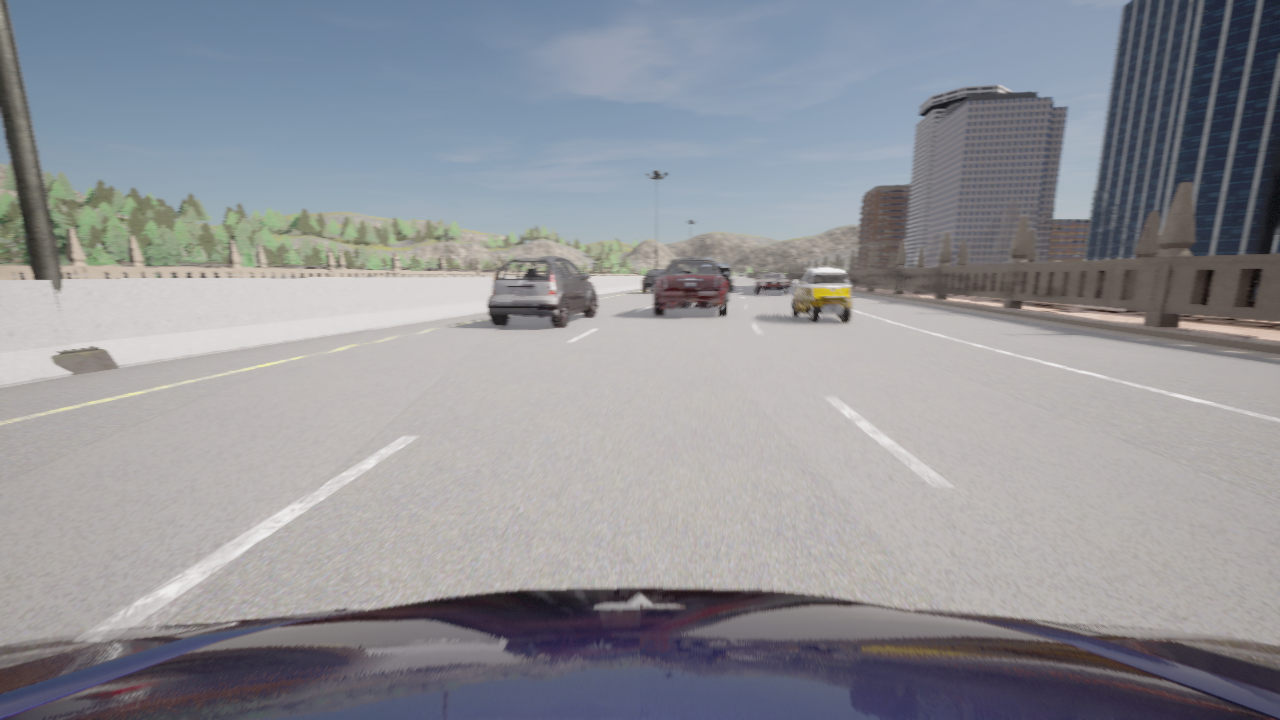cyclist: (0, 588, 1279, 719), (486, 257, 597, 327), (654, 255, 730, 316), (792, 267, 851, 322), (754, 273, 789, 294), (642, 269, 664, 293), (716, 262, 733, 292)
